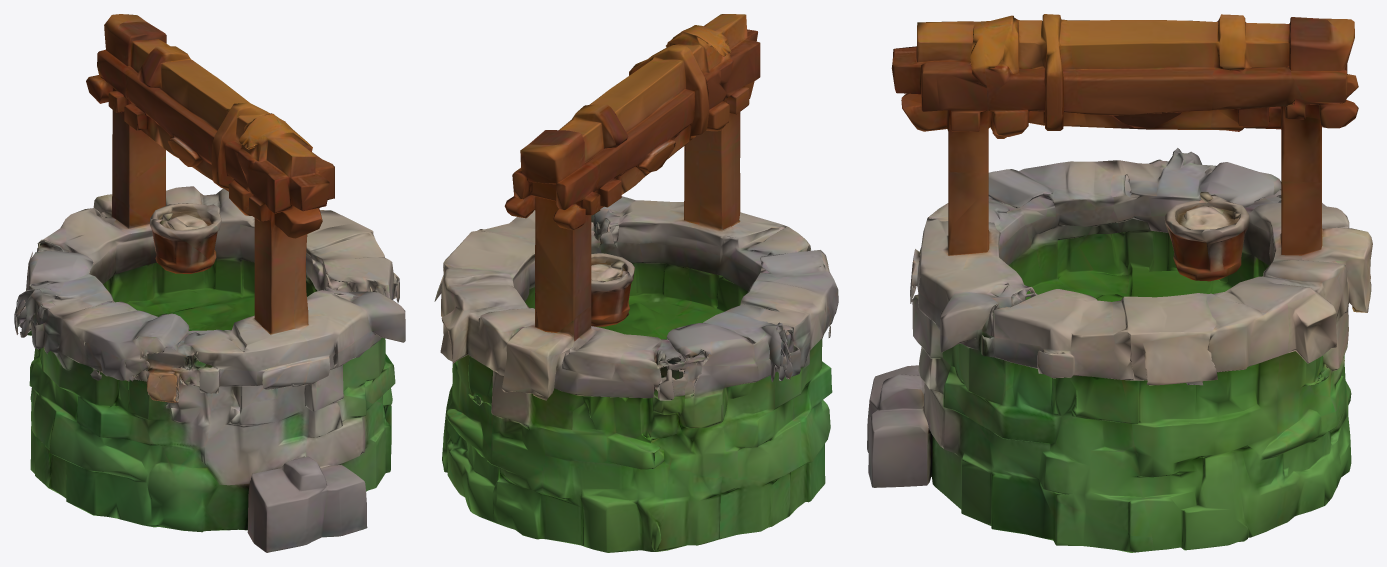
Rendered from well.glb.
3 views of the same model, side by side, from view 1: azimuth 30°, elevation 25°; view 2: azimuth 150°, elevation 25°; view 3: azimuth 270°, elevation 25° (orthographic). The views are drawn at different scales.
Parts seen in each view (by area): view 1: tripo_node_a502d33a-ba6c-4e2f-8517-49f493e1cf12; view 2: tripo_node_a502d33a-ba6c-4e2f-8517-49f493e1cf12; view 3: tripo_node_a502d33a-ba6c-4e2f-8517-49f493e1cf12.
Part boxes in pixels (left/top/right/bottom): tripo_node_a502d33a-ba6c-4e2f-8517-49f493e1cf12: left=14, top=14, right=405, bottom=552; tripo_node_a502d33a-ba6c-4e2f-8517-49f493e1cf12: left=434, top=14, right=838, bottom=552; tripo_node_a502d33a-ba6c-4e2f-8517-49f493e1cf12: left=867, top=14, right=1372, bottom=552.
Size of the model in its own units: 0.8597 by 1 by 0.9429.
Materials: 1 (1 with a texture image).
